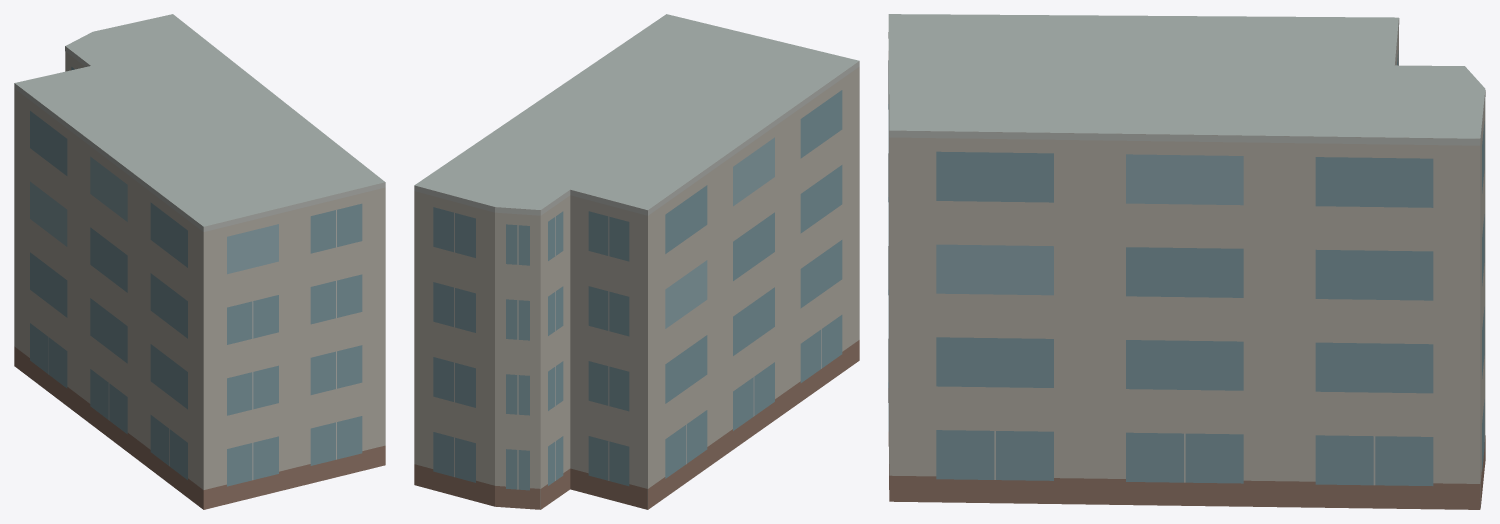
The model's file is survey-upis-32744236.glb.
3 renders of one model, left to right at view 1: azimuth 30°, elevation 25°; view 2: azimuth 150°, elevation 25°; view 3: azimuth 270°, elevation 25°, orthographic. The views are drawn at different scales.
Visible parts, largest first — view 1: survey-upis-32744236.tmp; view 2: survey-upis-32744236.tmp; view 3: survey-upis-32744236.tmp.
Part boxes in pixels (left/top/right/bottom): survey-upis-32744236.tmp: left=14, top=14, right=385, bottom=509; survey-upis-32744236.tmp: left=414, top=14, right=859, bottom=509; survey-upis-32744236.tmp: left=888, top=14, right=1485, bottom=509.
Bounding box in the file's own units: 9.38 × 13 × 18.96.
